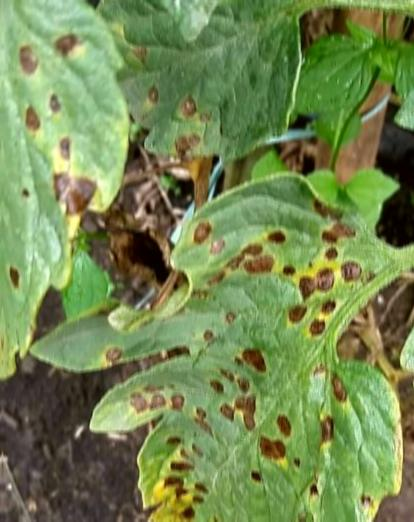Tomato Early blight leaf: (37, 181, 368, 522), (95, 0, 327, 166)
